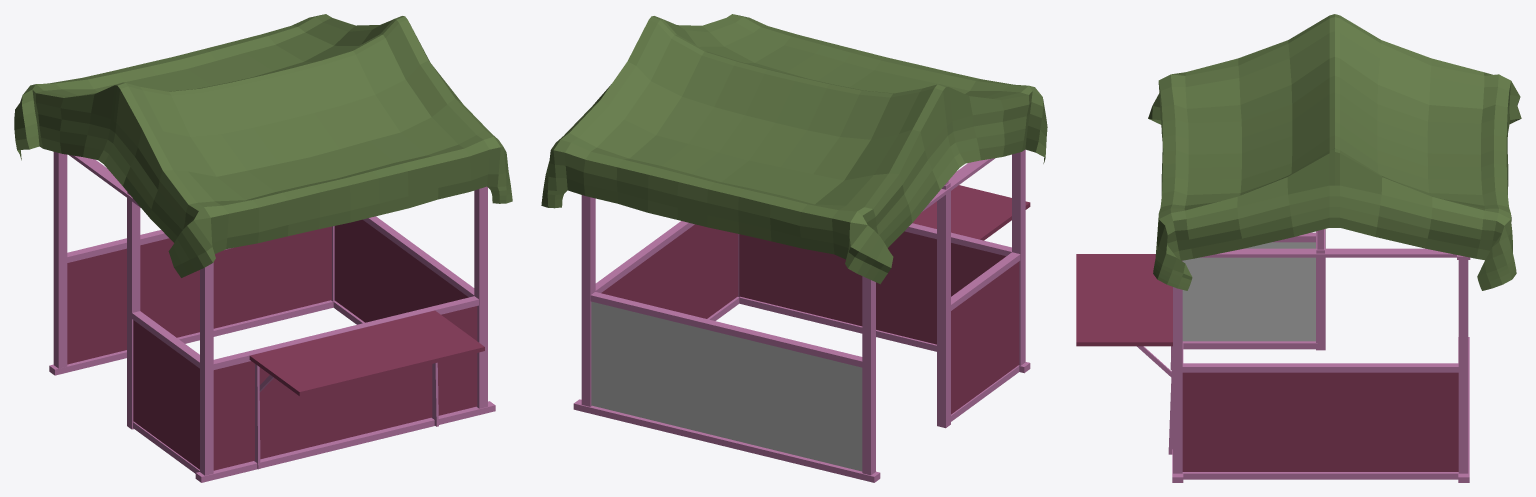
The model's file is SM_Market_V8.fbx.
3 renders of one model, left to right at view 1: azimuth 30°, elevation 25°; view 2: azimuth 150°, elevation 25°; view 3: azimuth 270°, elevation 25°, orthographic. The views are drawn at different scales.
Parts seen in each view (by area): view 1: SM_Market_V8; view 2: SM_Market_V8; view 3: SM_Market_V8.
Boxes of the visible parts, <box> form: SM_Market_V8: <box>14,14,512,482</box>; SM_Market_V8: <box>541,14,1047,482</box>; SM_Market_V8: <box>1076,14,1521,482</box>.
Bounding box in the file's own units: 294 × 349 × 286.
